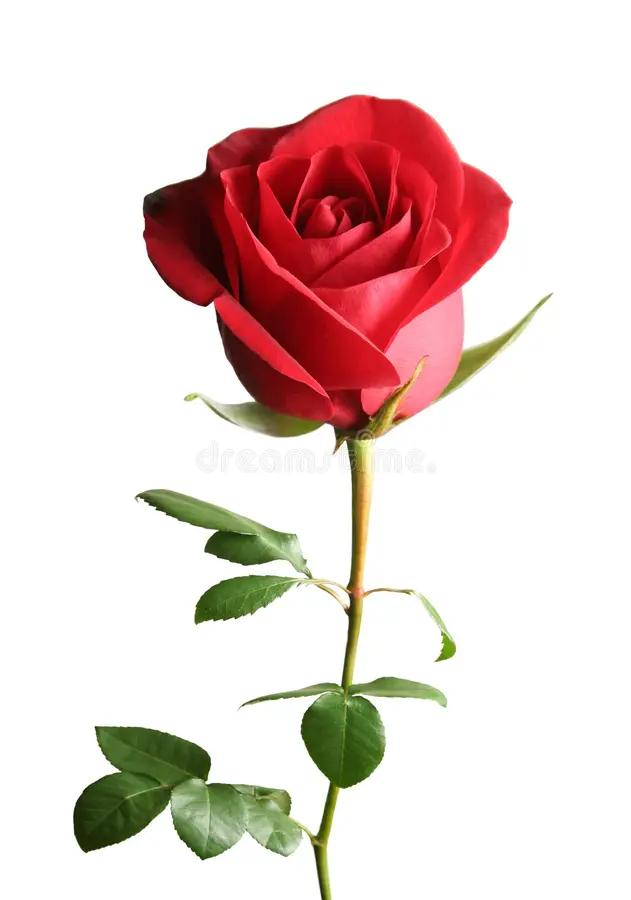rose: (135, 85, 565, 477)
